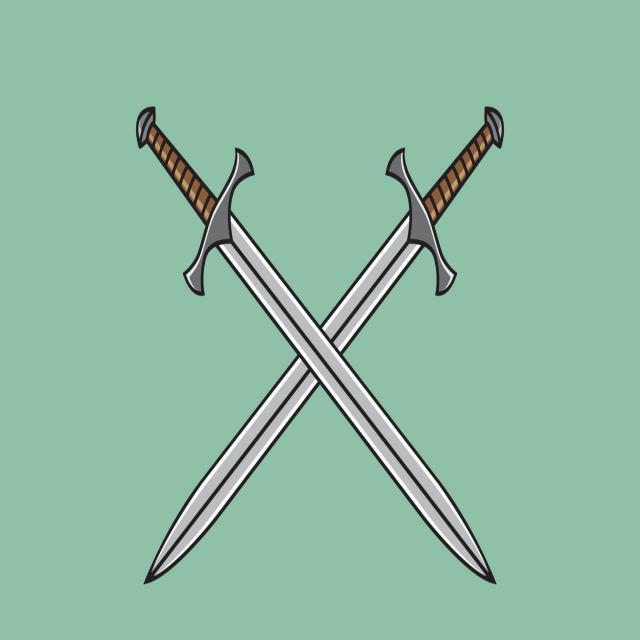sword: (136, 94, 514, 597), (124, 88, 502, 586)
